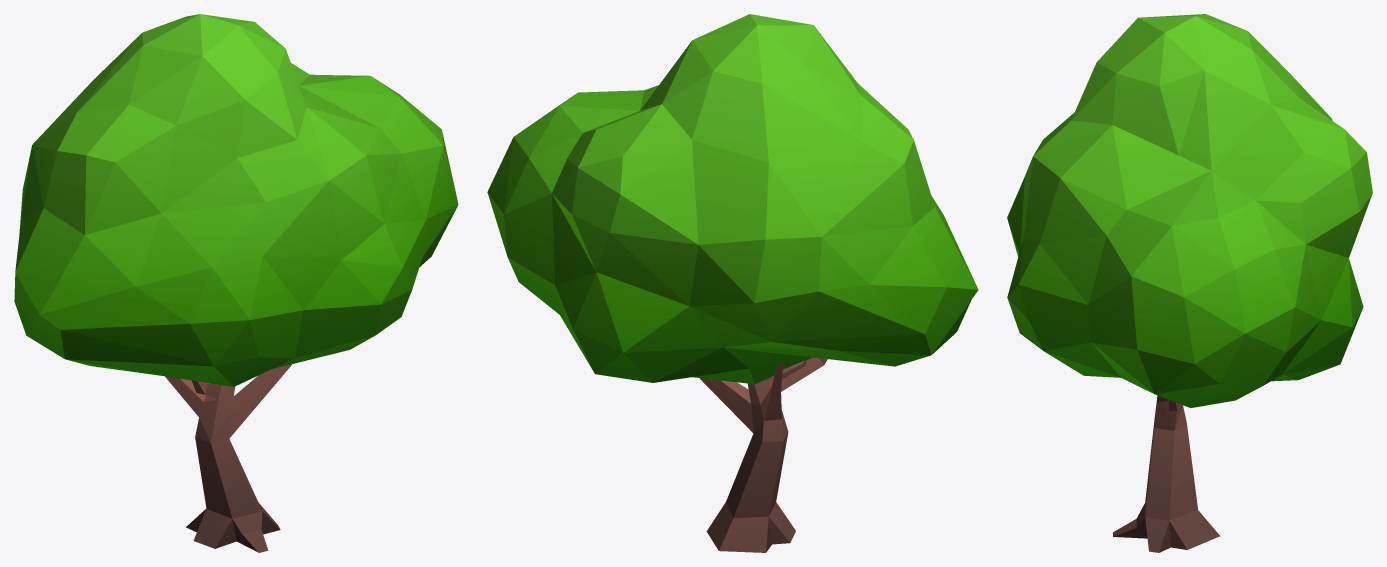
The model's file is tree2.glb.
3 renders of one model, left to right at view 1: azimuth 30°, elevation 25°; view 2: azimuth 150°, elevation 25°; view 3: azimuth 270°, elevation 25°, orthographic. The views are drawn at different scales.
Visible parts, largest first — view 1: tree2; view 2: tree2; view 3: tree2.
Part boxes in pixels (<box>): tree2: <box>14,14,458,552</box>; tree2: <box>487,14,978,552</box>; tree2: <box>1007,14,1372,552</box>.
Bounding box in the file's own units: 7.69 × 8.69 × 5.67.
Materials: 1 (1 with a texture image).
